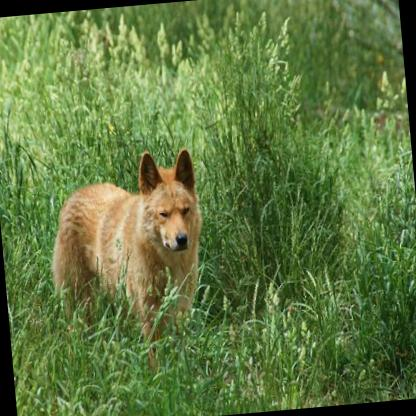dingo: (42, 145, 212, 374)
